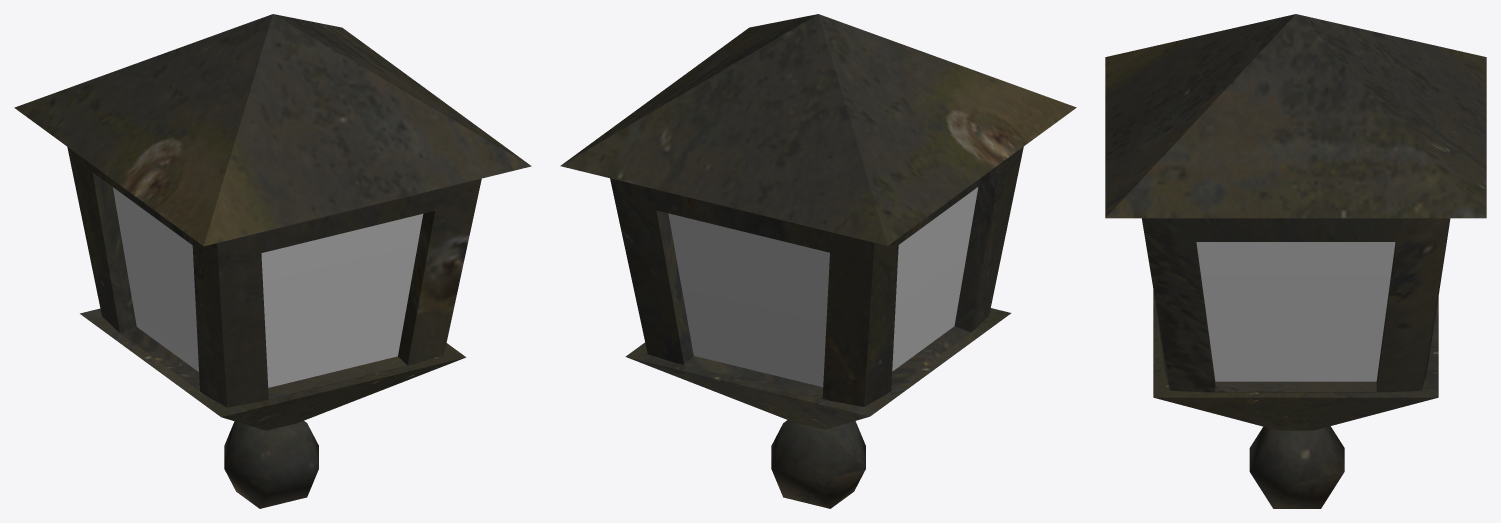
Rendered from OU_AR_StreetLamp_02_D_.fbx.
3 renders of one model, left to right at view 1: azimuth 30°, elevation 25°; view 2: azimuth 150°, elevation 25°; view 3: azimuth 270°, elevation 25°, orthographic.
Parts seen in each view (by area): view 1: OU_AR_StreetLamp_02_D_1; view 2: OU_AR_StreetLamp_02_D_1; view 3: OU_AR_StreetLamp_02_D_1.
Boxes of the visible parts, bbox=[...] form: OU_AR_StreetLamp_02_D_1: bbox=[14, 14, 531, 508]; OU_AR_StreetLamp_02_D_1: bbox=[560, 14, 1076, 508]; OU_AR_StreetLamp_02_D_1: bbox=[1105, 14, 1486, 508].
Bounding box in the file's own units: 63.23 × 88.48 × 63.23.
Materials: 2 (1 with a texture image).
